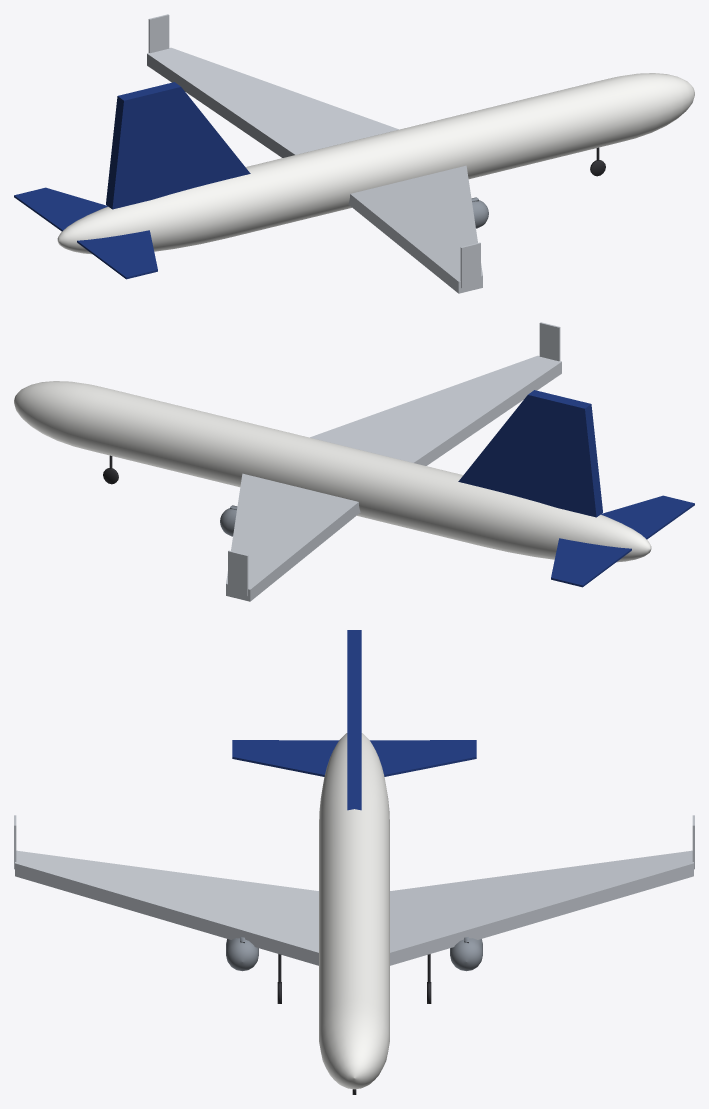
3 views of the same model, one above another, from view 1: azimuth 30°, elevation 25°; view 2: azimuth 150°, elevation 25°; view 3: azimuth 270°, elevation 25° (orthographic). The views are drawn at different scales.
Visible parts, largest first — view 1: fuselage, wings, tail; view 2: fuselage, wings, tail; view 3: wings, fuselage, tail, engines.
Boxes of the visible parts, box(x1,y1,x2,y2) form: fuselage: box(57, 73, 694, 254); wings: box(147, 14, 482, 293); tail: box(14, 82, 250, 279); fuselage: box(14, 381, 651, 562); wings: box(226, 322, 561, 601); tail: box(458, 390, 694, 587); wings: box(14, 815, 694, 965); fuselage: box(319, 733, 389, 1089); tail: box(232, 630, 476, 810); engines: box(226, 936, 482, 971).
Size of the model in its own units: 42.2 by 12.29 by 36.02.
